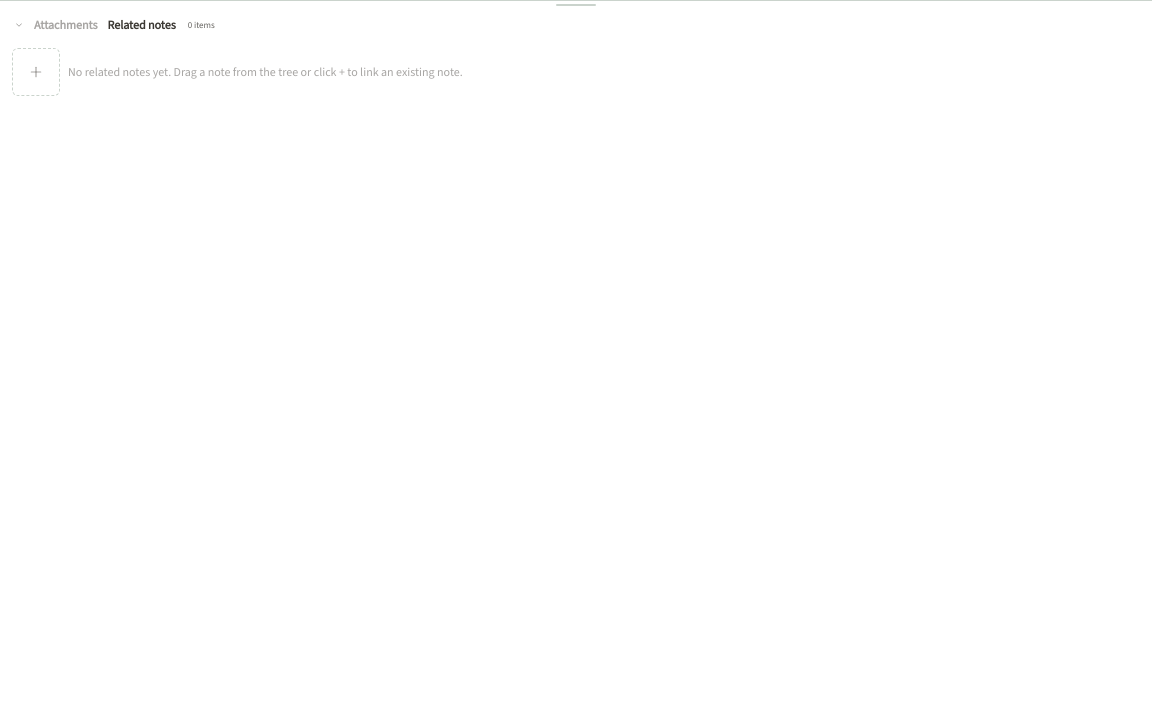
Test case: AttachmentsBar › related tab: empty-state ghost + opens the internal-note dialog directly
The width and height of the screenshot is (1152, 720).
Click the button with test id "related-add-internal": point(36, 72) [12,48,60,96]
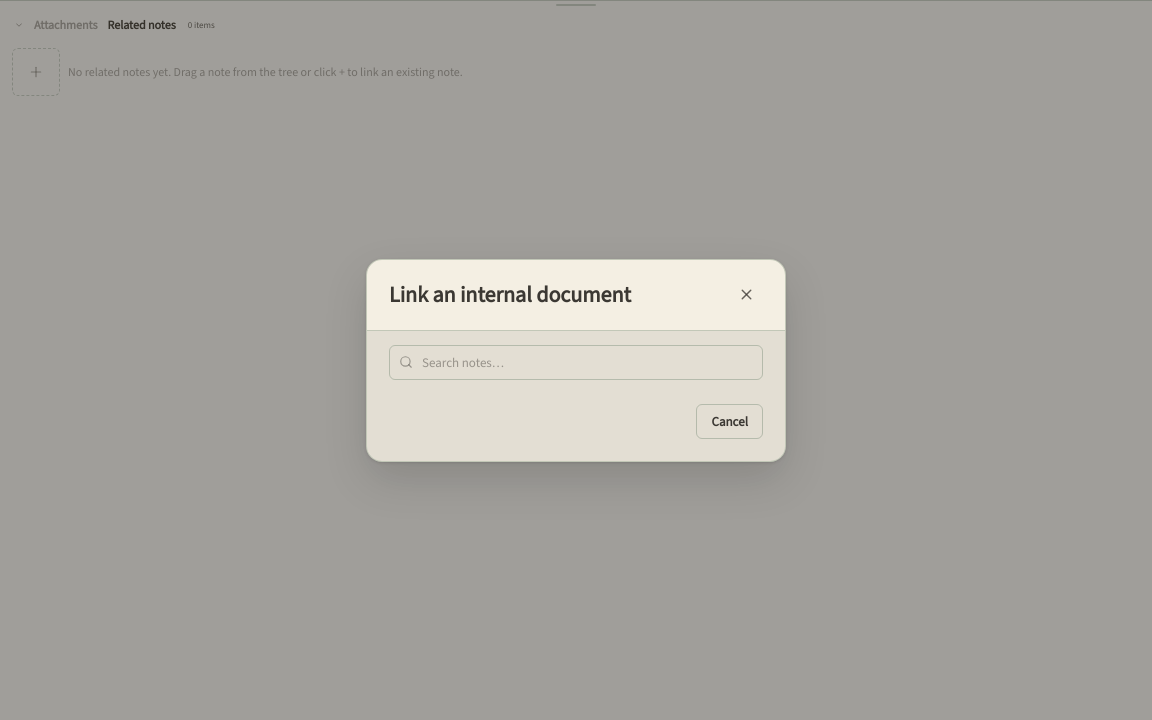
Expected: the field with test id "internal-note-search" is shown, [389,344,763,380]
